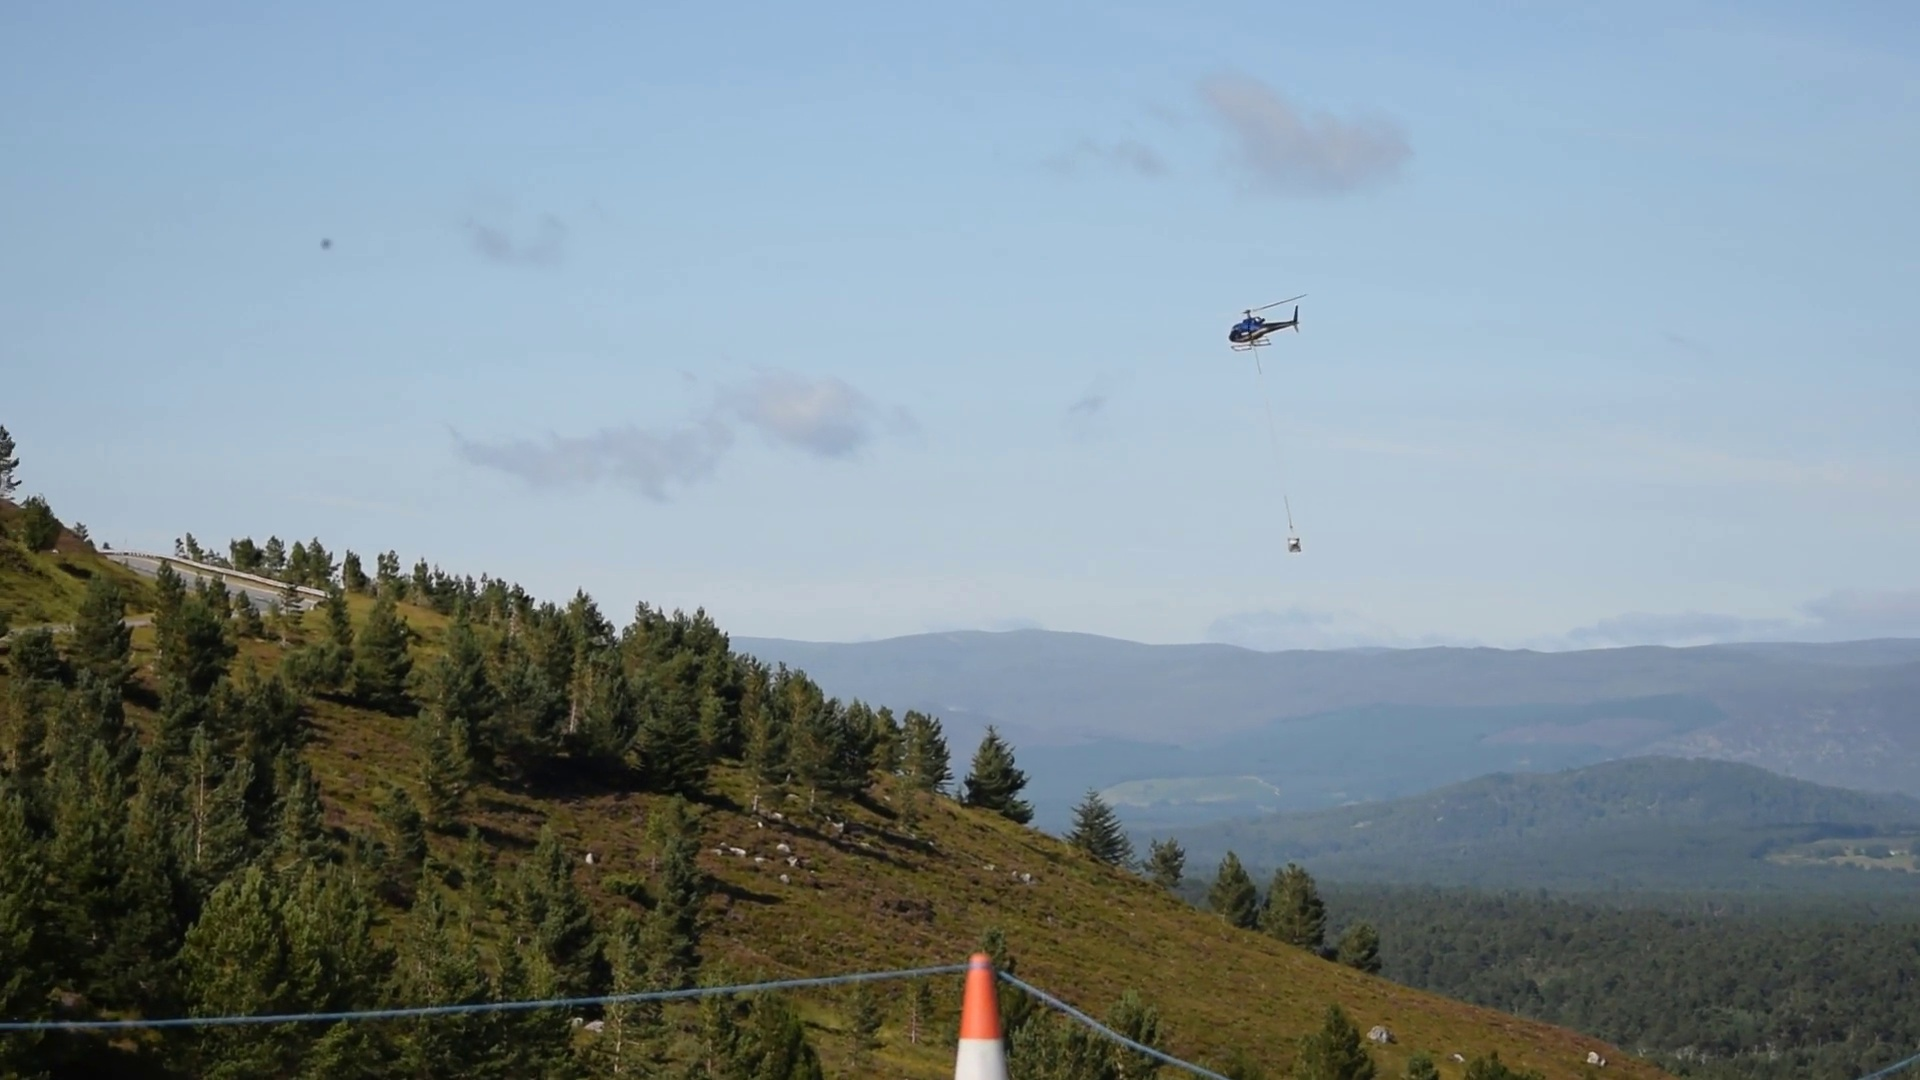heli: (1224, 294, 1302, 353)
